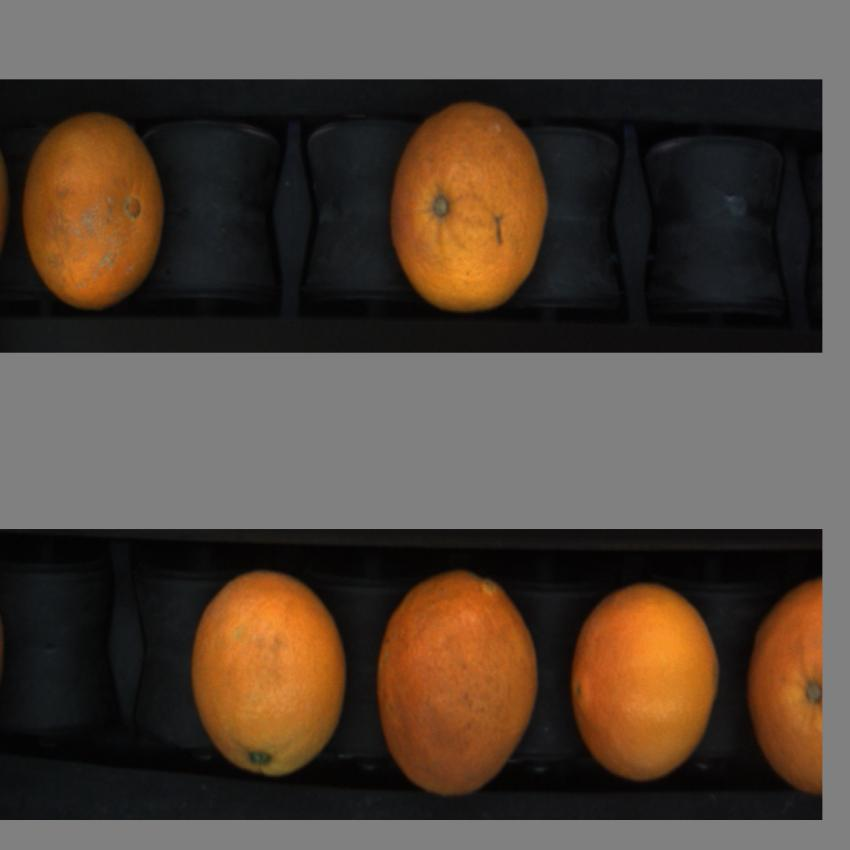Buen estado: (186, 561, 353, 791), (386, 96, 556, 320), (567, 572, 728, 793), (21, 103, 174, 320), (746, 576, 825, 804)
Mal estado: (372, 567, 545, 800)
